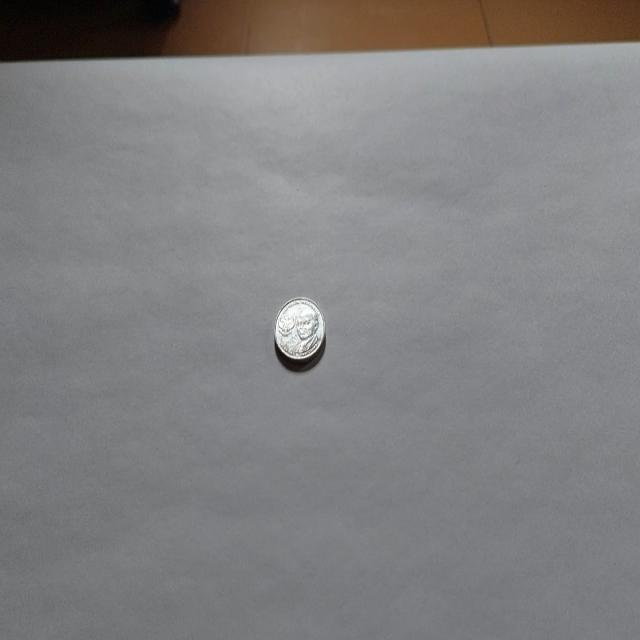lima ratus rupiah: (272, 295, 326, 366)
